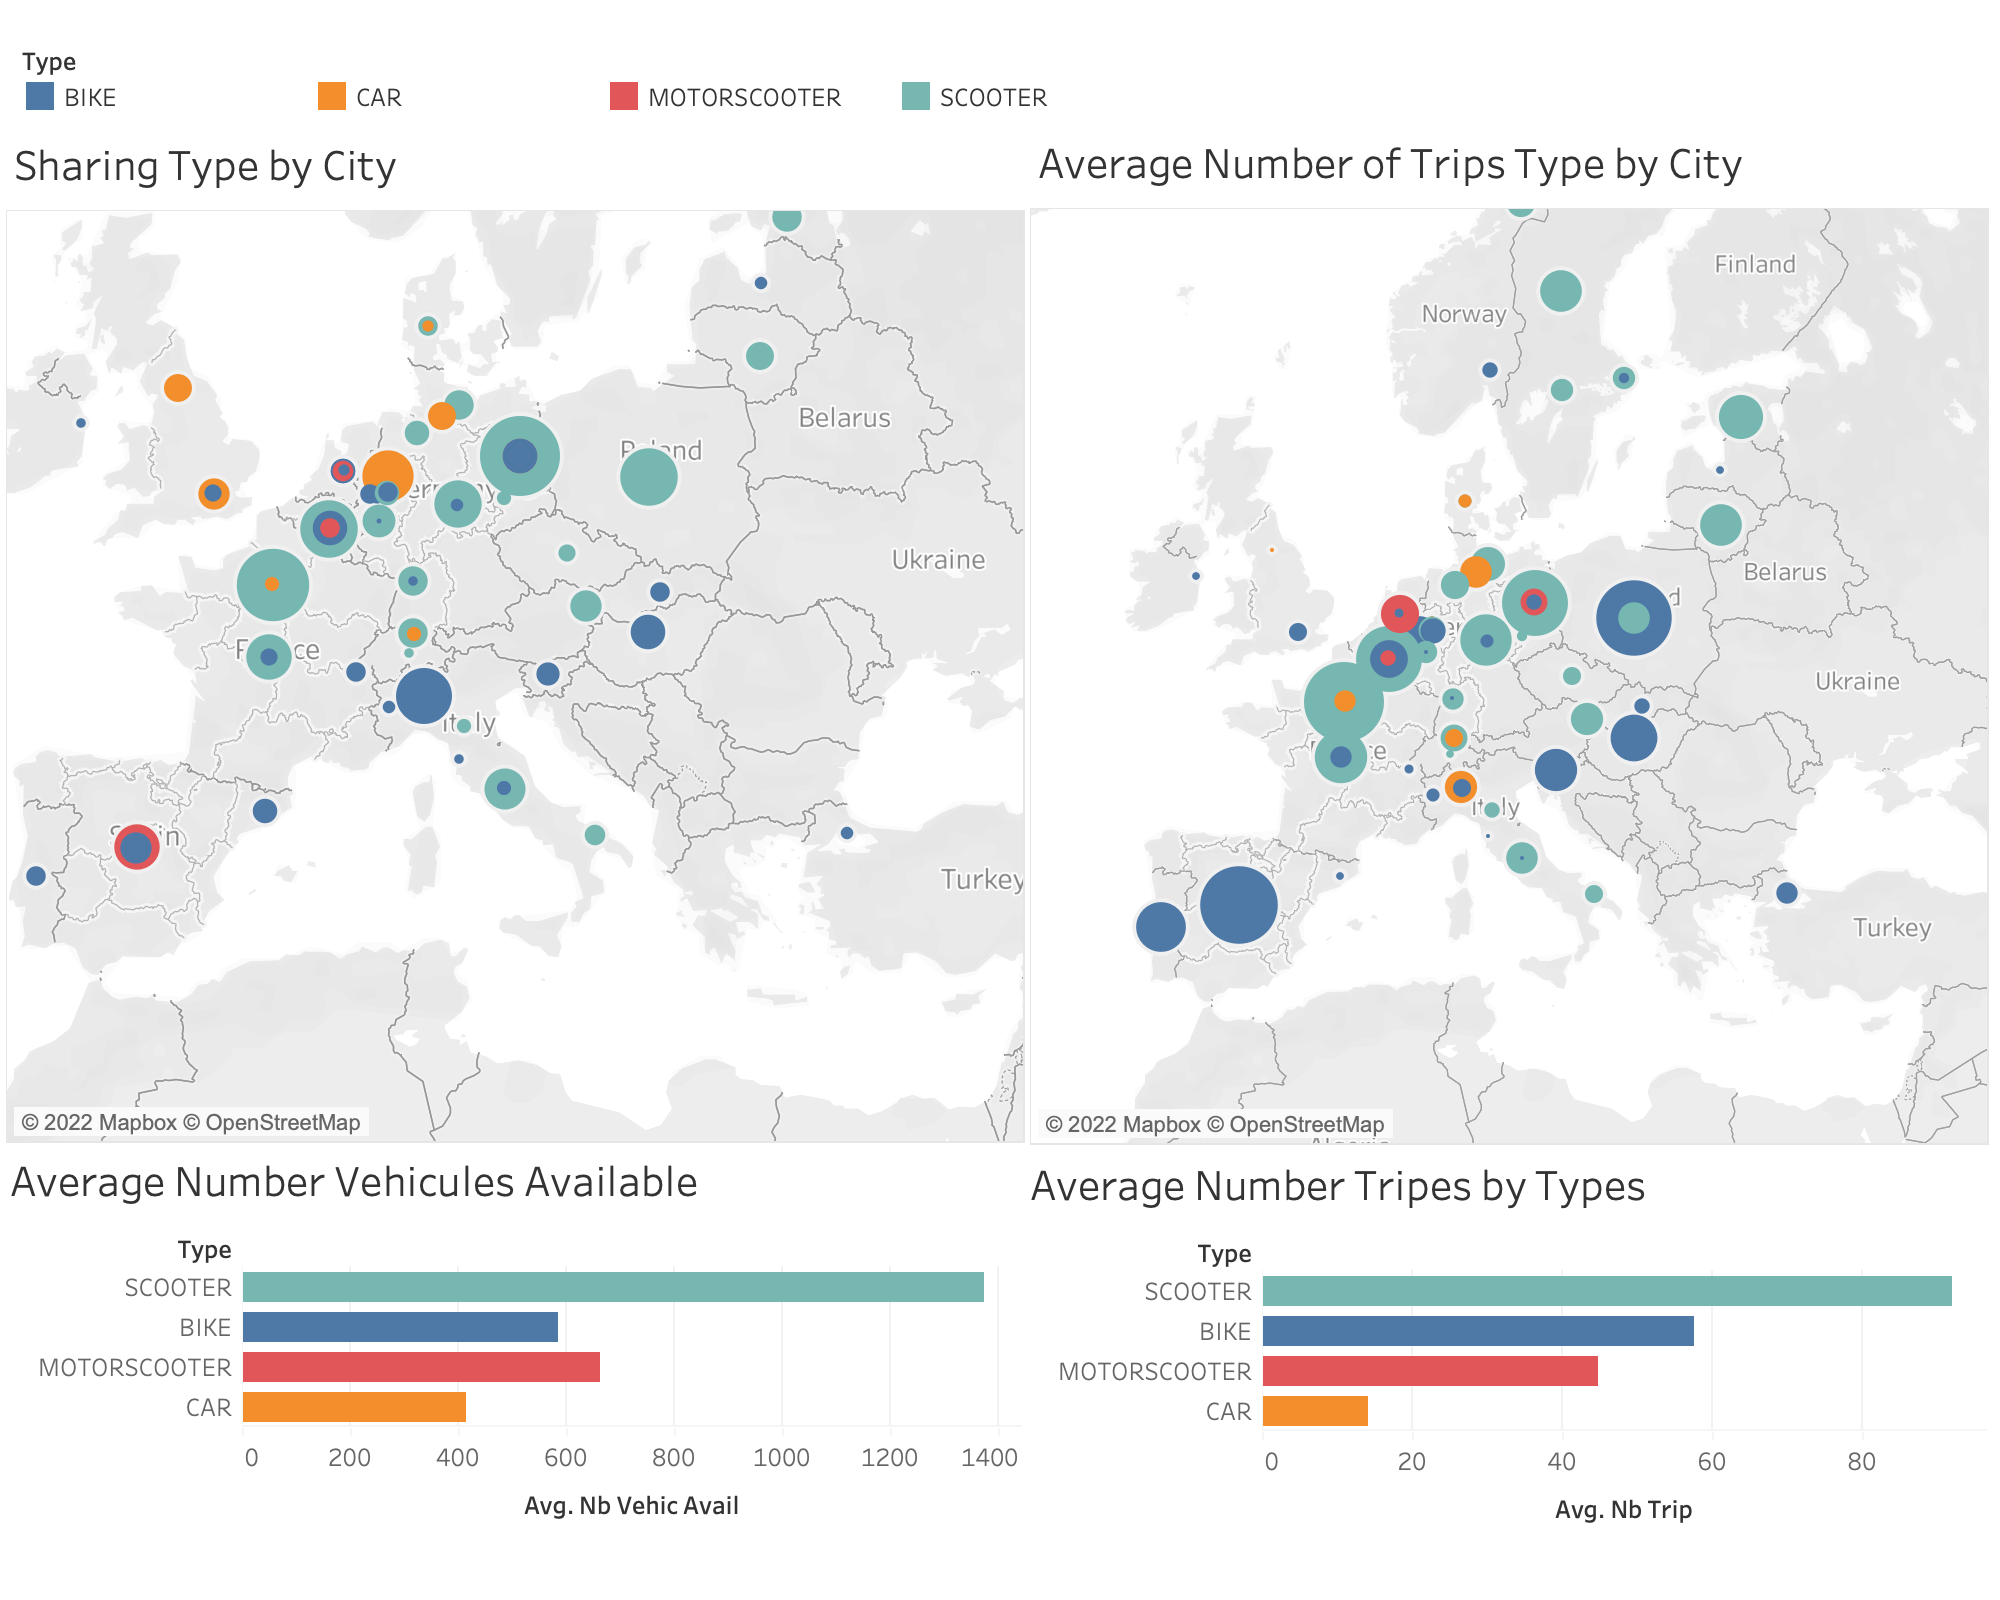

Layout of this report page (visuals, bound fields, positions):
{"tool":"tableau","page":{"name":"Dashboard 1","canvas":[1000,800],"ordinal":0},"visuals":[{"type":"legend","title":"Sharing Type by City","param":"[federated.07jp8dl1bo4cnb12wddc80qw2e5r].[none:type:nk]","box":[10,20,990,46]},{"type":"worksheet","title":"Average Number of Trips Type by City","mark":"Automatic","box":[506,61,489,512]},{"type":"worksheet","title":"Sharing Type by City","mark":"Automatic","box":[3,62,502,510]},{"type":"worksheet","title":"Average Number Vehicules Available","mark":"Automatic","rows":["type"],"cols":["nb_vehic_avail"],"box":[1,570,510,211]},{"type":"worksheet","title":"Average Number Tripes by Types","mark":"Automatic","rows":["type"],"cols":["nb_trip"],"box":[511,572,482,199]}]}

Visuals, with their boxes in screenshot pixels (x1, y1, x2, y2), scaled from the page's 1000x800 canvas onto the 2000x1600 screenshot:
"Sharing Type by City" legend: bbox=(20, 40, 1999, 132)
"Average Number of Trips Type by City" worksheet: bbox=(1012, 122, 1990, 1146)
"Sharing Type by City" worksheet: bbox=(6, 124, 1010, 1144)
"Average Number Vehicules Available" worksheet: bbox=(2, 1140, 1022, 1562)
"Average Number Tripes by Types" worksheet: bbox=(1022, 1144, 1986, 1542)
